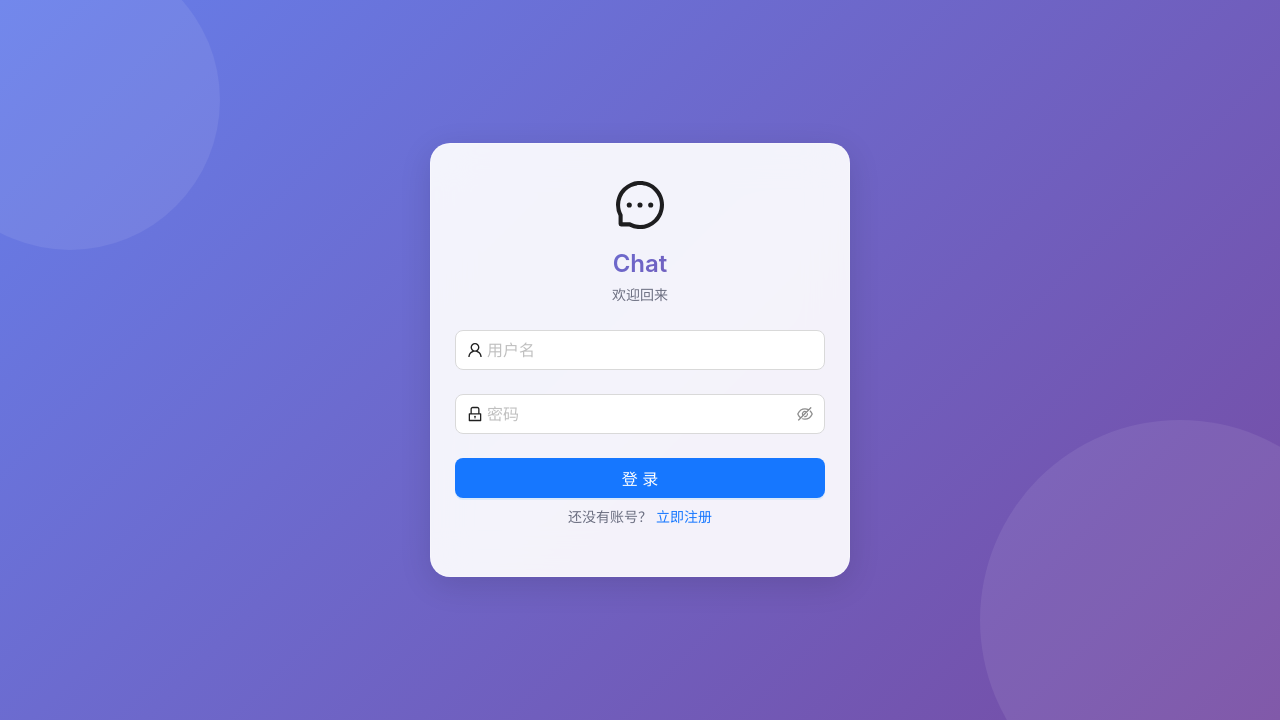
Test: Login - Validation & Error (v0.2.0) › 1.2.3: shows validation error when password is empty
The width and height of the screenshot is (1280, 720).
Type "testuser" into the field with placeholder "用户名" at (650, 350), box [487,338,813,362]
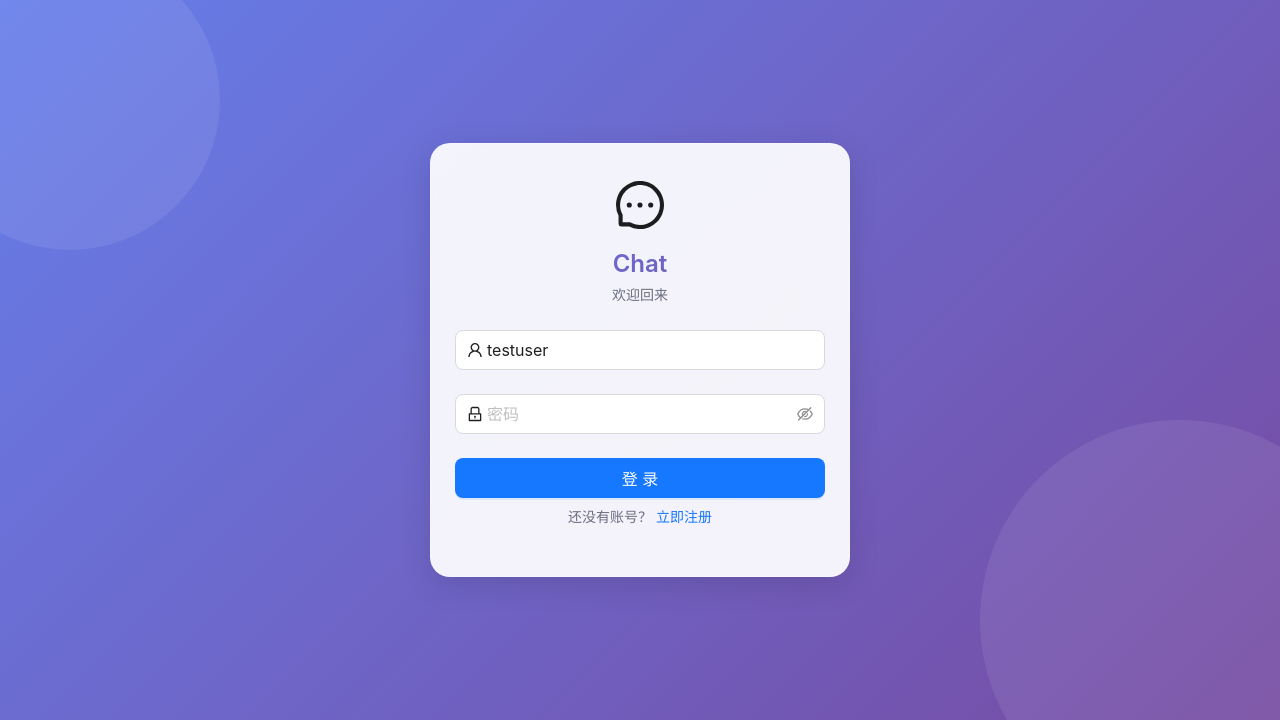
Click the button "登 录" at (640, 478), box [455,458,825,498]
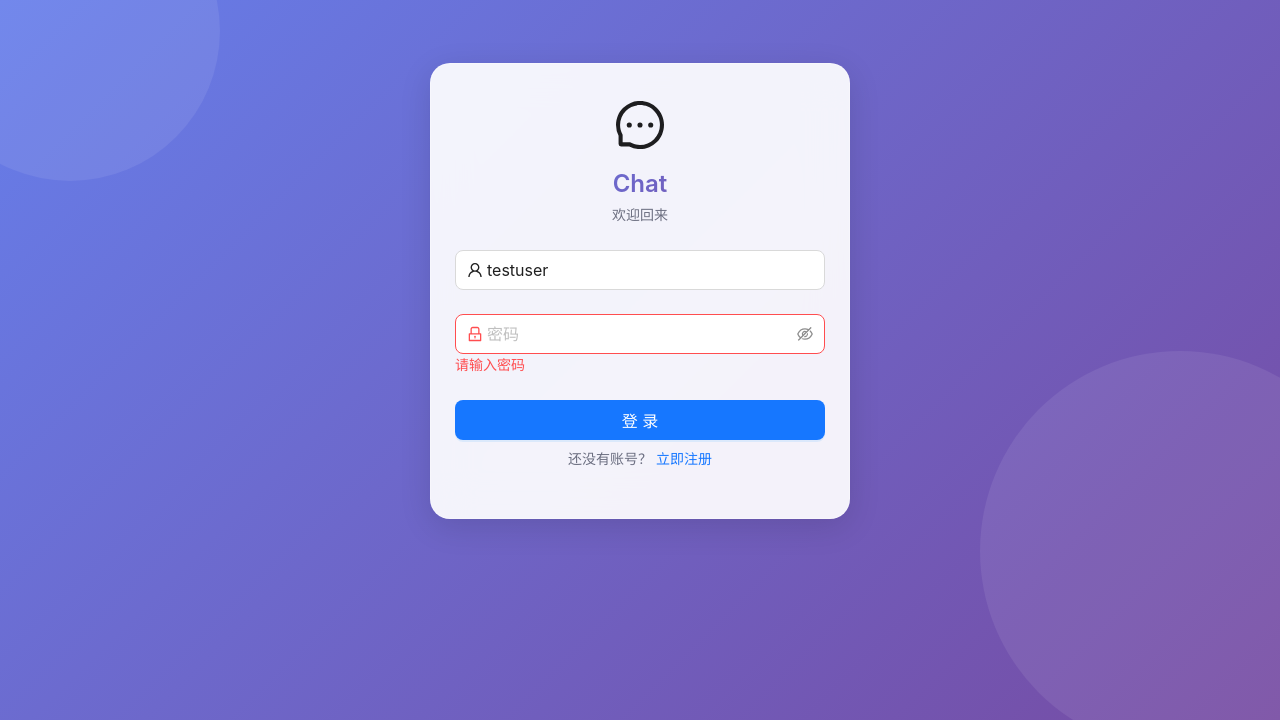
Now the text "请输入密码" is shown, box [455,356,525,373]
